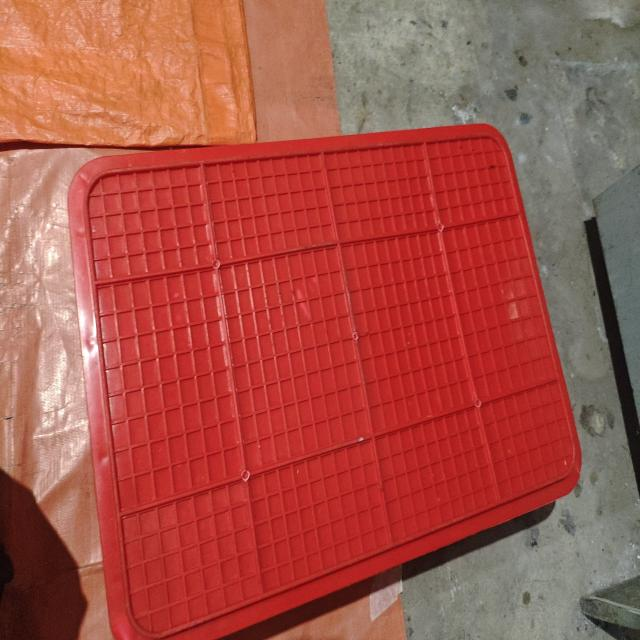red plastic box: (68, 124, 583, 640)
